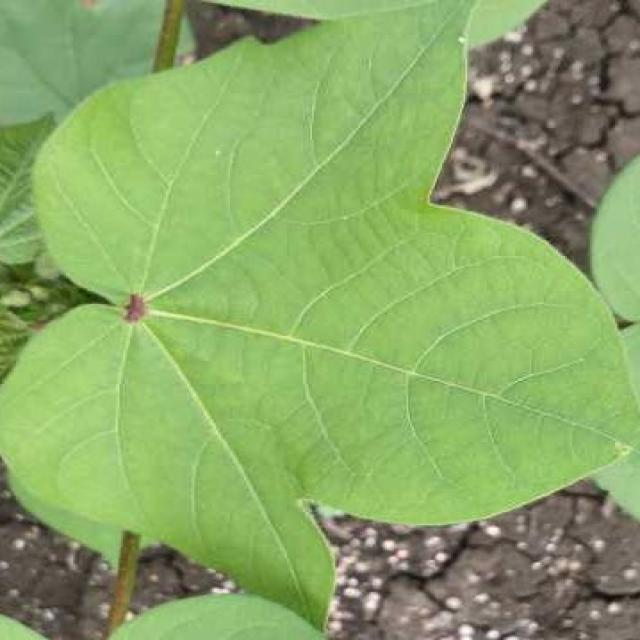Healthy Leaf: (7, 33, 640, 640)
